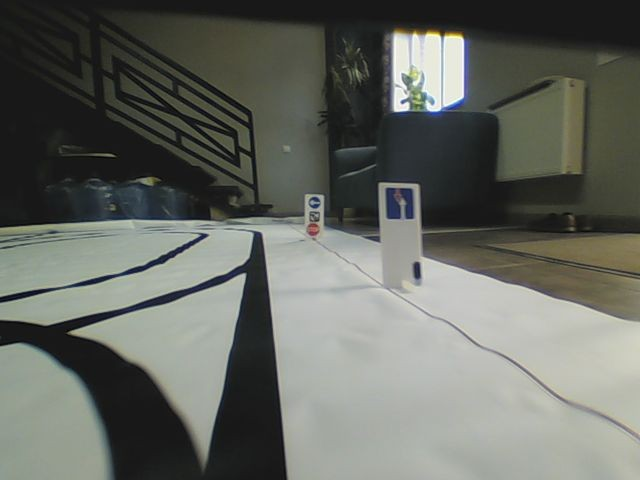priority_movement: (383, 188, 416, 222)
